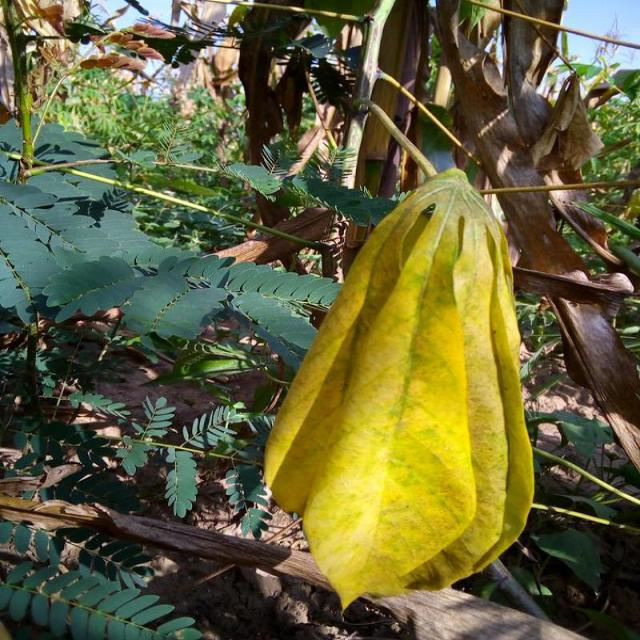cassava leaf: (262, 166, 535, 614)
